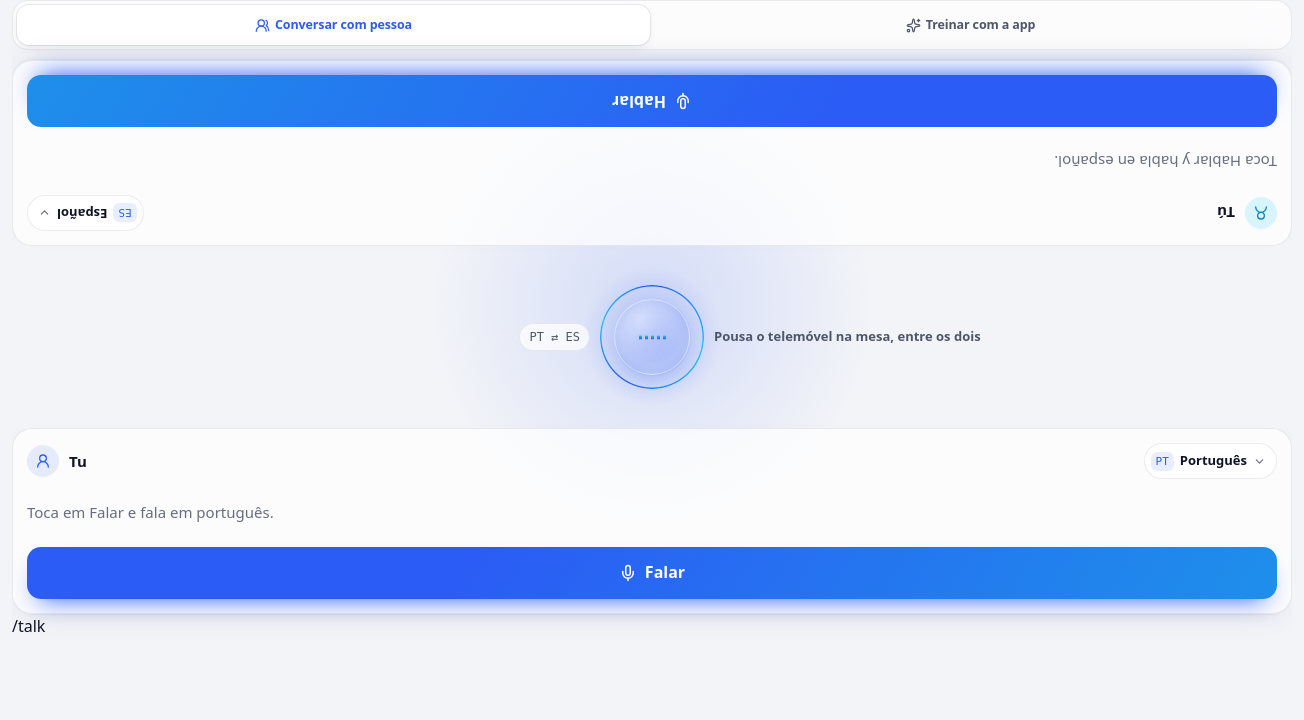
Test case: TalkPage — modes and URL › defaults to person mode and switches through ?mode= (replace), halting the mode it leaves
This screenshot has width=1304, height=720.
Expected: the element named "O teu lado" is shown, top-left (12, 428), bottom-right (1292, 614)
Click the tab "Treinar com a app" at (970, 25), box top-left (654, 5), bottom-right (1287, 45)
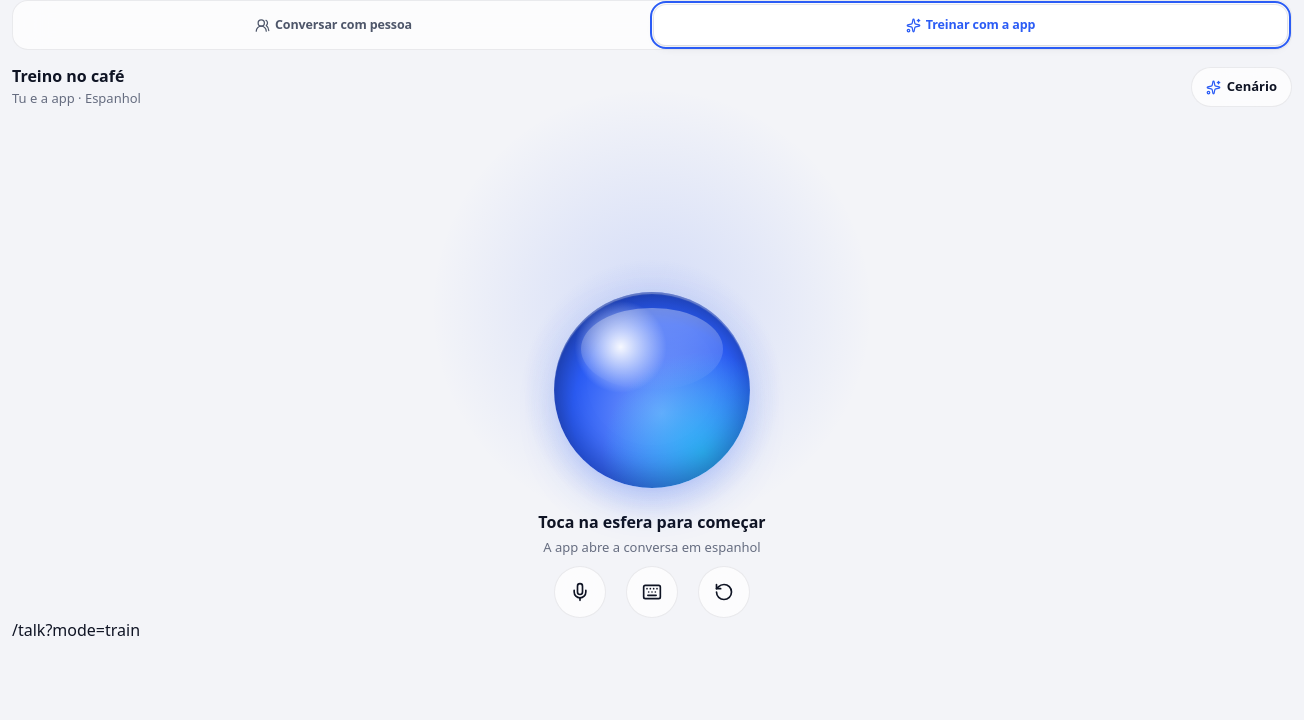
Now the text with test id "location" reads "/talk?mode=train", box top-left (12, 619), bottom-right (140, 641)
Now the heading "Treino no café" is shown, box top-left (12, 66), bottom-right (141, 87)
Click the tab "Conversar com pessoa" at (334, 25), box top-left (17, 5), bottom-right (650, 45)
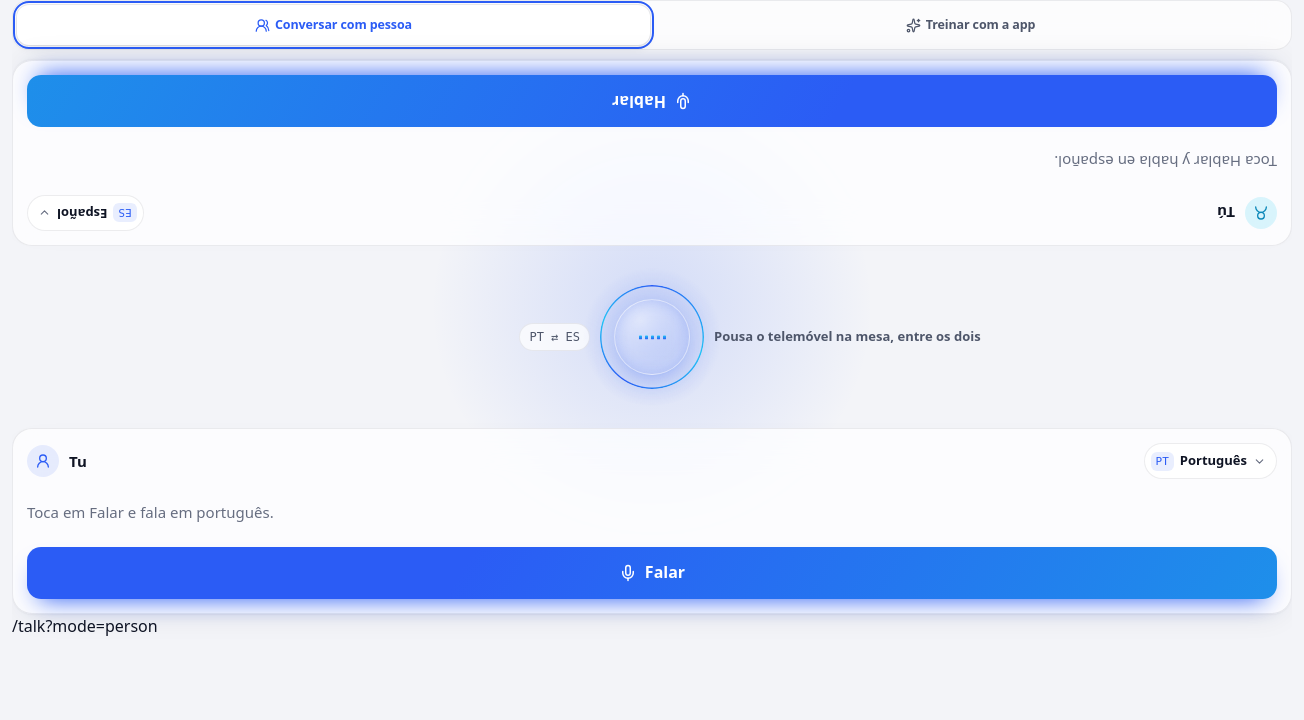
Now the text with test id "location" reads "/talk?mode=person", box top-left (12, 615), bottom-right (158, 637)
Now the element named "O teu lado" is shown, box top-left (12, 428), bottom-right (1292, 614)
